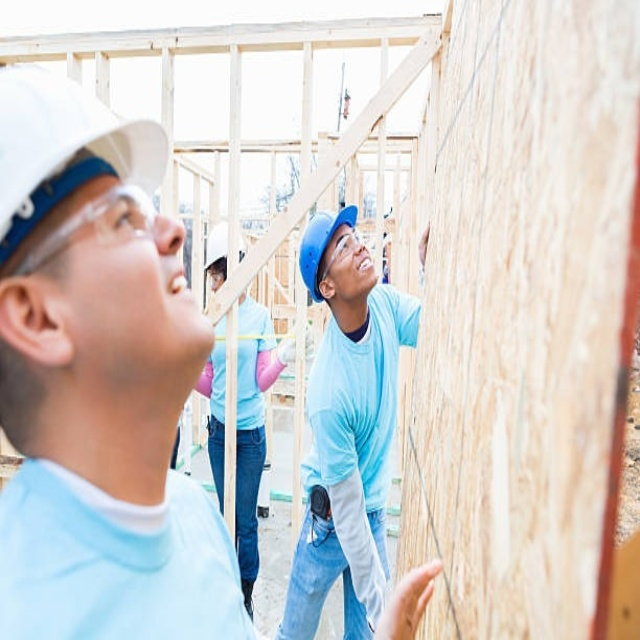Gafas: (14, 182, 157, 278), (322, 227, 362, 284)
Sin_guantes: (369, 556, 444, 640)
Sin_mascara: (153, 248, 212, 344), (352, 251, 374, 287)
